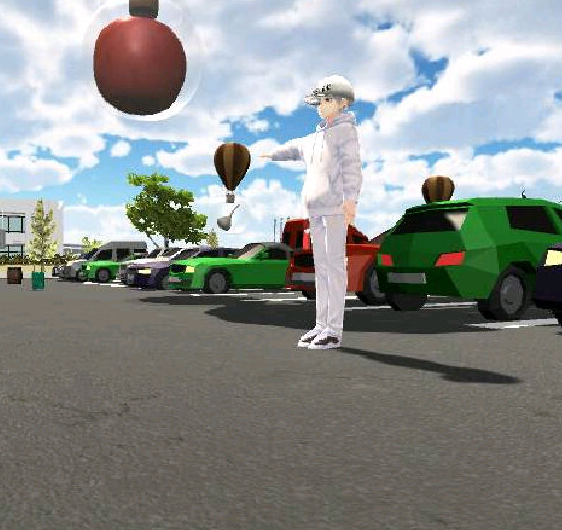singleP_left: (258, 68, 360, 357)
